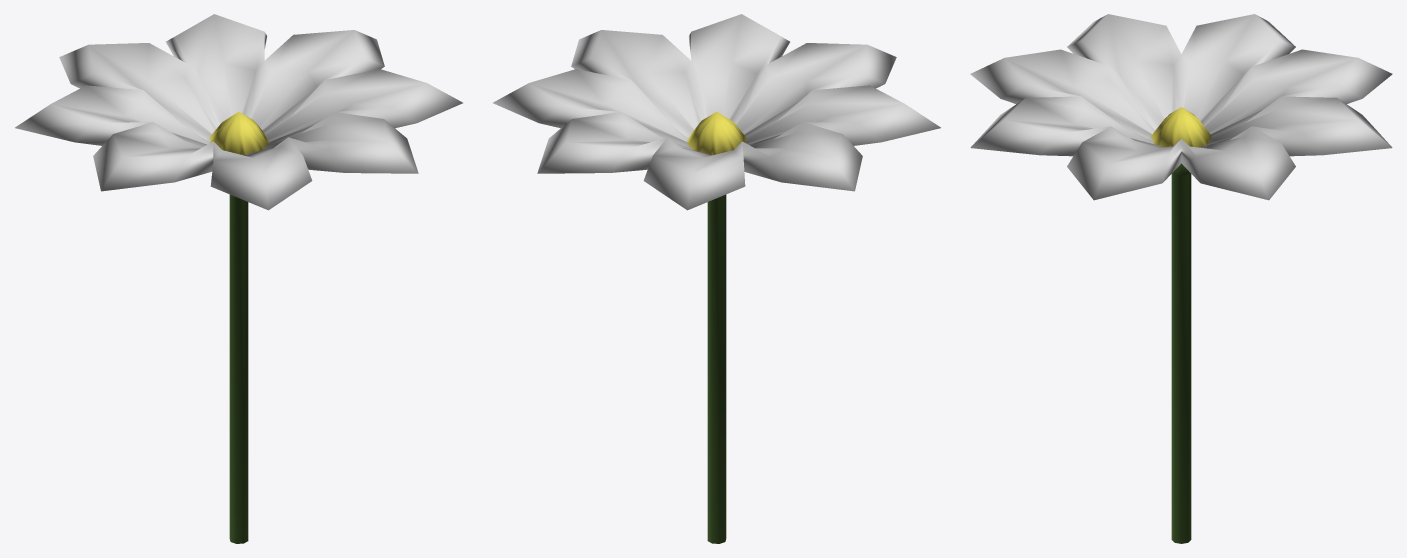
Rendered from daisy.glb.
3 views of the same model, side by side, from view 1: azimuth 30°, elevation 25°; view 2: azimuth 150°, elevation 25°; view 3: azimuth 270°, elevation 25° (orthographic).
Visible parts, largest first — view 1: Cylinder; view 2: Cylinder; view 3: Cylinder.
Part boxes in pixels (<box>): Cylinder: <box>15,14,462,543</box>; Cylinder: <box>493,14,940,543</box>; Cylinder: <box>970,14,1392,543</box>.
Bounding box in the file's own units: 2.93 × 3.45 × 2.93.
